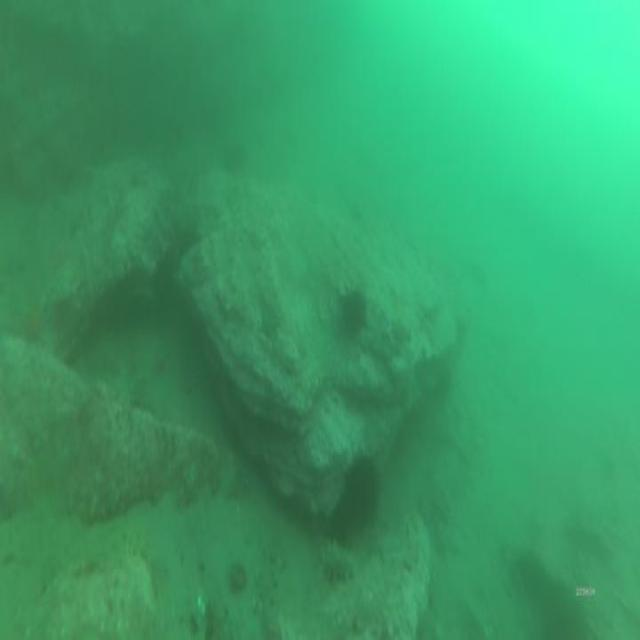echinus: (344, 454, 380, 516), (339, 288, 367, 330)
holothurian: (318, 536, 356, 580)
starfish: (19, 304, 45, 342)
